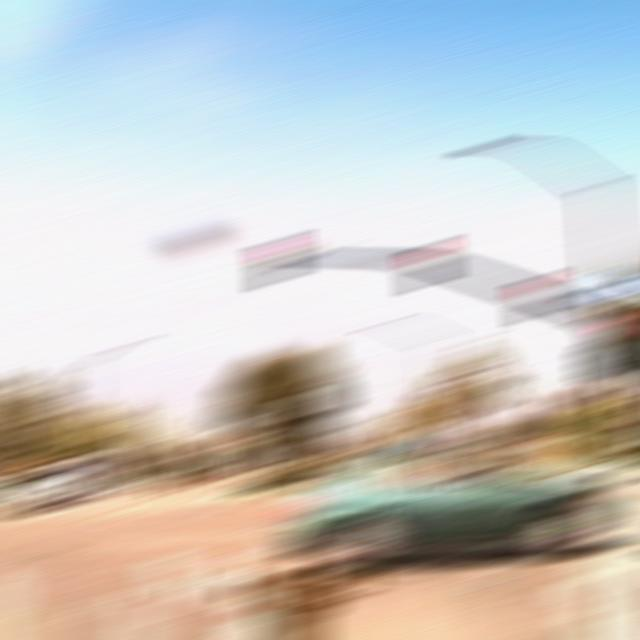speedLimit50: (279, 394, 313, 415)
